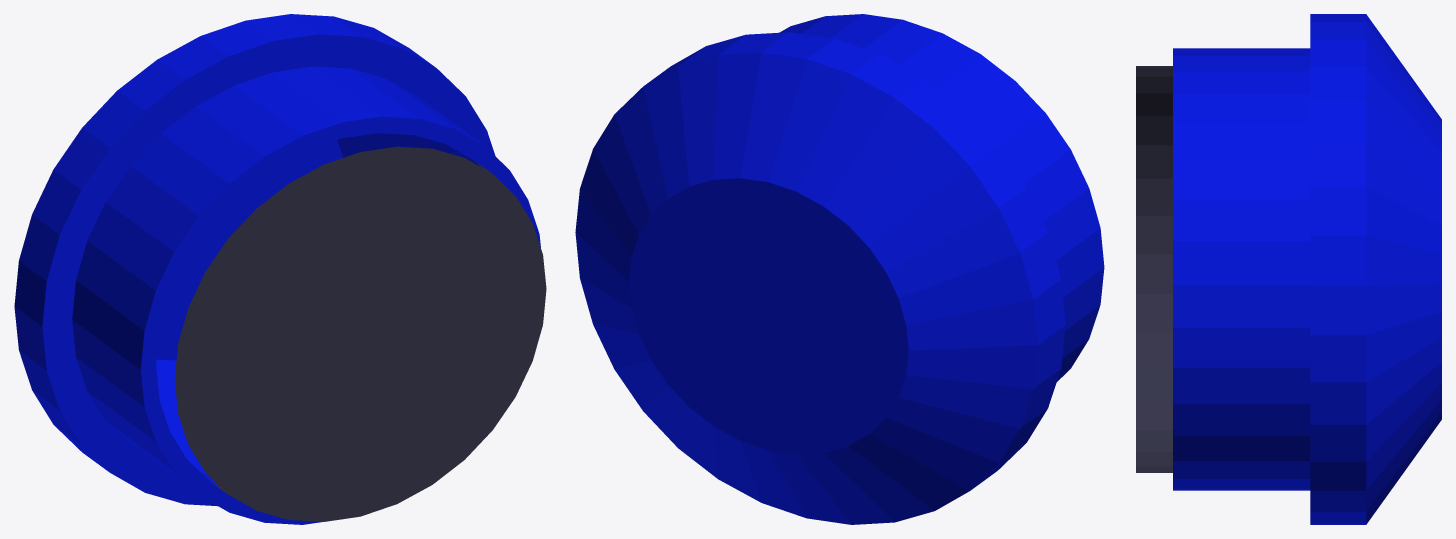
Rendered from magnet1.fbx.
The picture shows the model from 3 angles, left to right: view 1: azimuth 30°, elevation 25°; view 2: azimuth 150°, elevation 25°; view 3: azimuth 270°, elevation 25°; orthographic projection.
Parts seen in each view (by area): view 1: Cylinder.017; view 2: Cylinder.017; view 3: Cylinder.017.
Boxes of the visible parts, x1=… form: Cylinder.017: x1=14, y1=14, x2=546, y2=524; Cylinder.017: x1=575, y1=14, x2=1104, y2=524; Cylinder.017: x1=1136, y1=14, x2=1441, y2=524.
Size of the model in its own units: 569 by 540 by 326.
